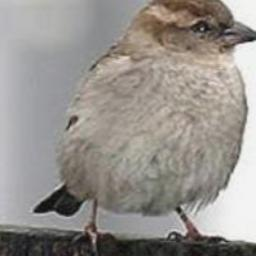Sparrow: (31, 0, 256, 256)
